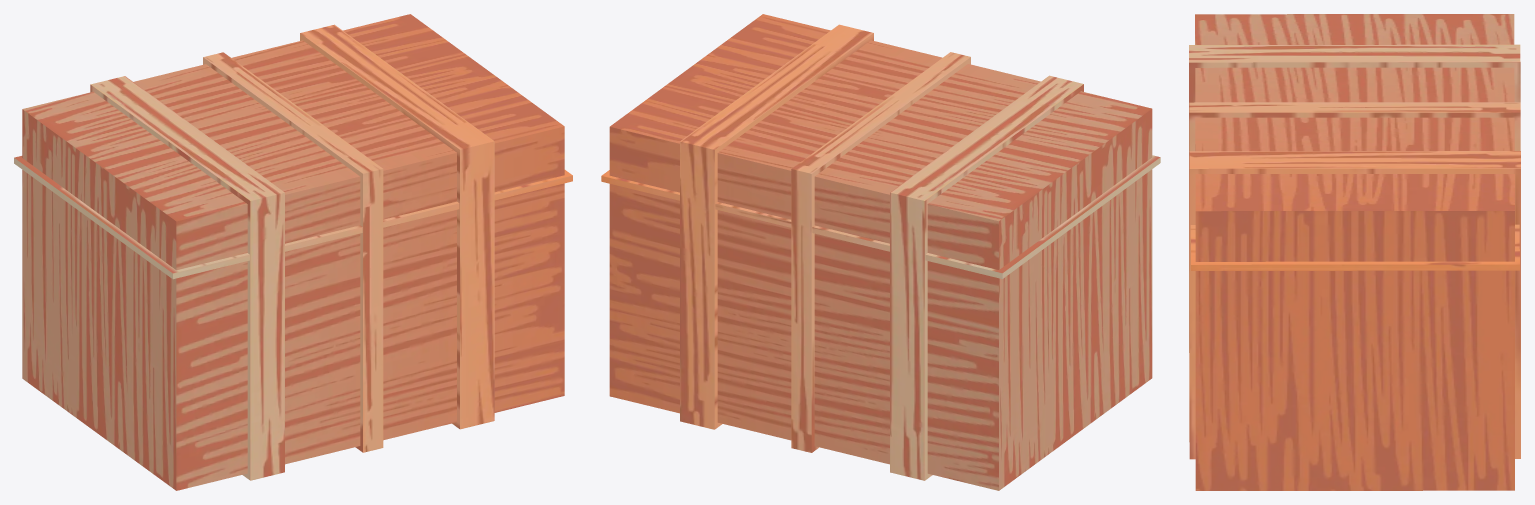
File: smallBox_2024.glb
The picture shows the model from 3 angles, left to right: view 1: azimuth 30°, elevation 25°; view 2: azimuth 150°, elevation 25°; view 3: azimuth 270°, elevation 25°; orthographic projection. The views are drawn at different scales.
Visible parts, largest first — view 1: BoitePetite; view 2: BoitePetite; view 3: BoitePetite.
Boxes of the visible parts, x1=… form: BoitePetite: x1=14, y1=14, x2=572, y2=490; BoitePetite: x1=601, y1=14, x2=1160, y2=490; BoitePetite: x1=1189, y1=14, x2=1520, y2=490.
Size of the model in its own units: 0.6301 by 0.42 by 0.435.
1 material, 1 textured.
